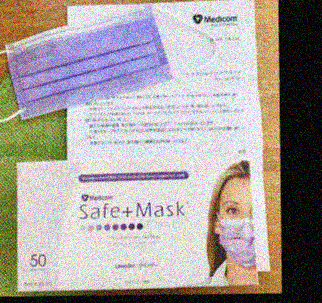with_mask: (218, 198, 256, 270)
